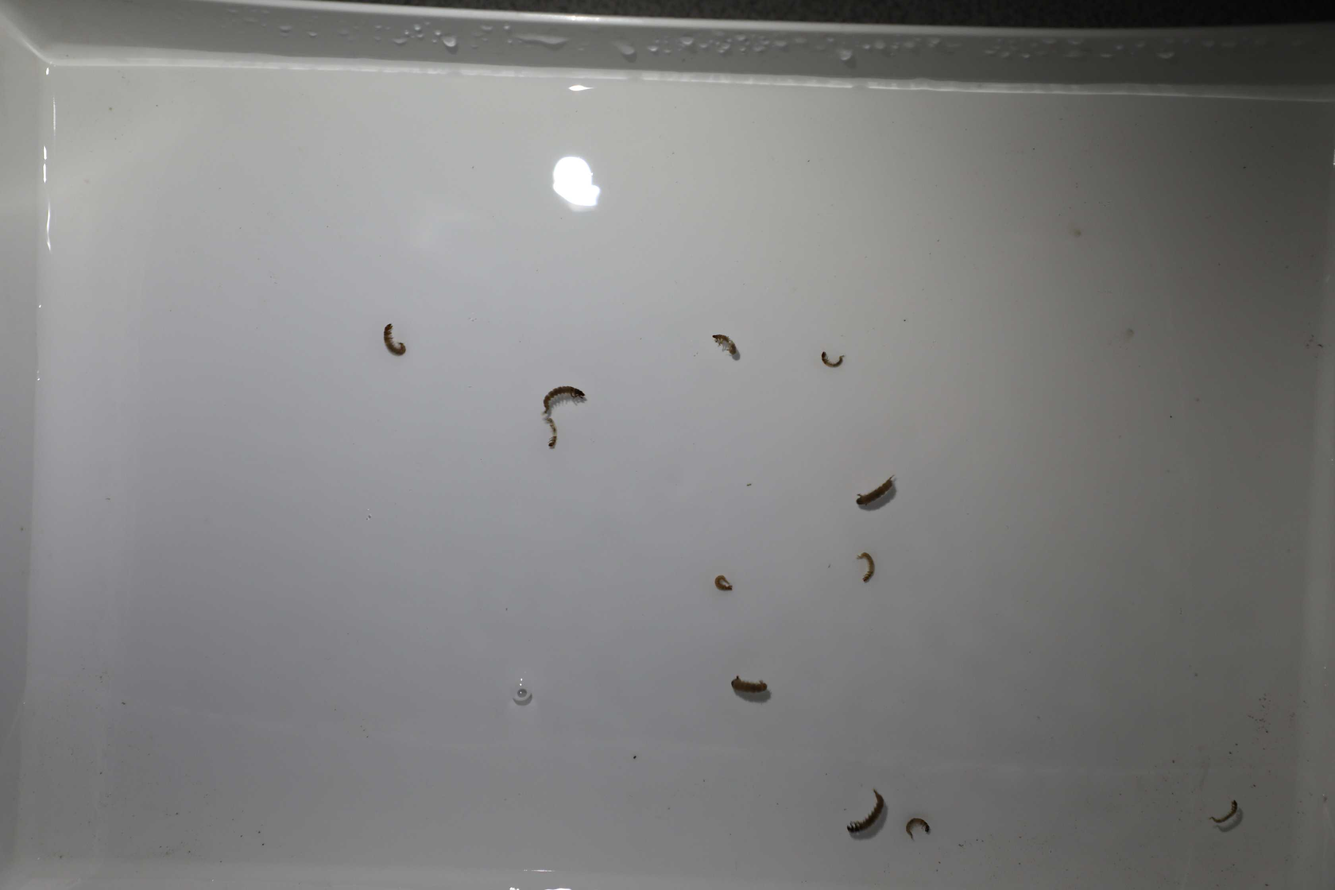Cadisfly: (847, 781, 883, 840), (528, 380, 589, 411), (1205, 791, 1242, 837), (728, 672, 778, 703), (373, 319, 406, 363), (705, 327, 743, 365), (852, 477, 897, 507), (852, 545, 882, 586), (902, 814, 933, 839), (540, 409, 556, 457), (811, 348, 849, 368), (712, 566, 735, 596)
